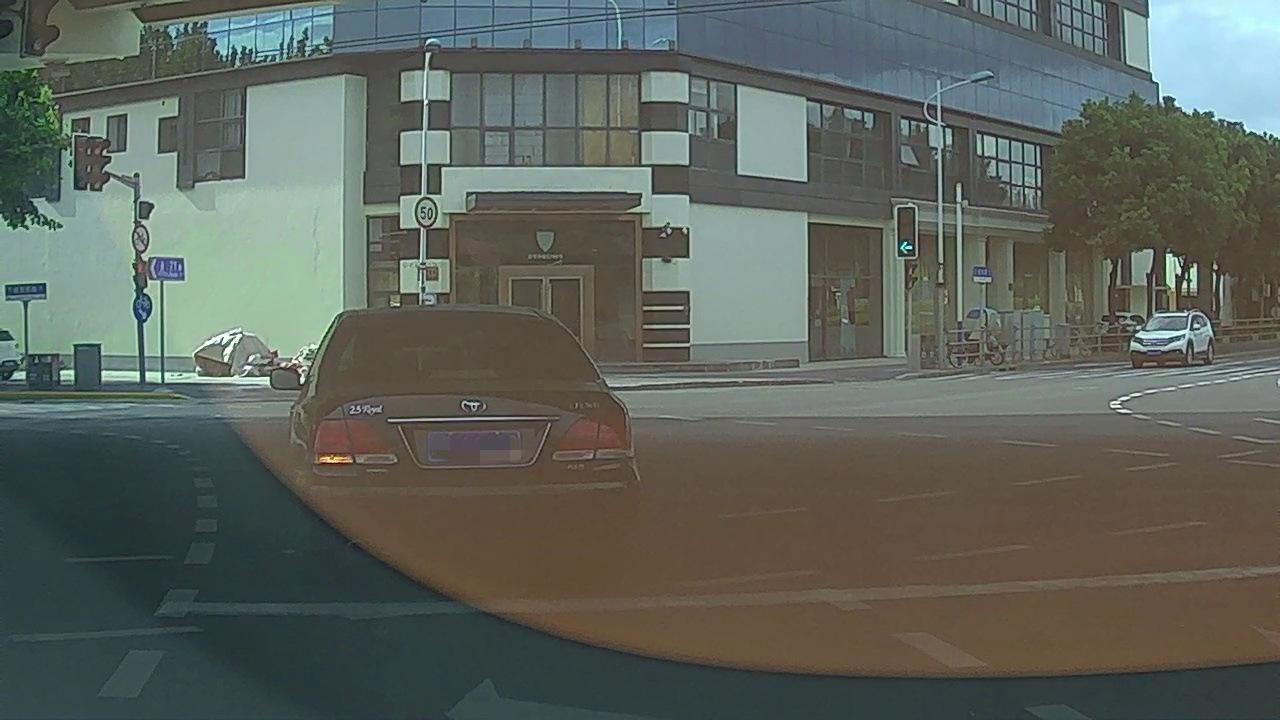traffic_light: (896, 207, 915, 257)
